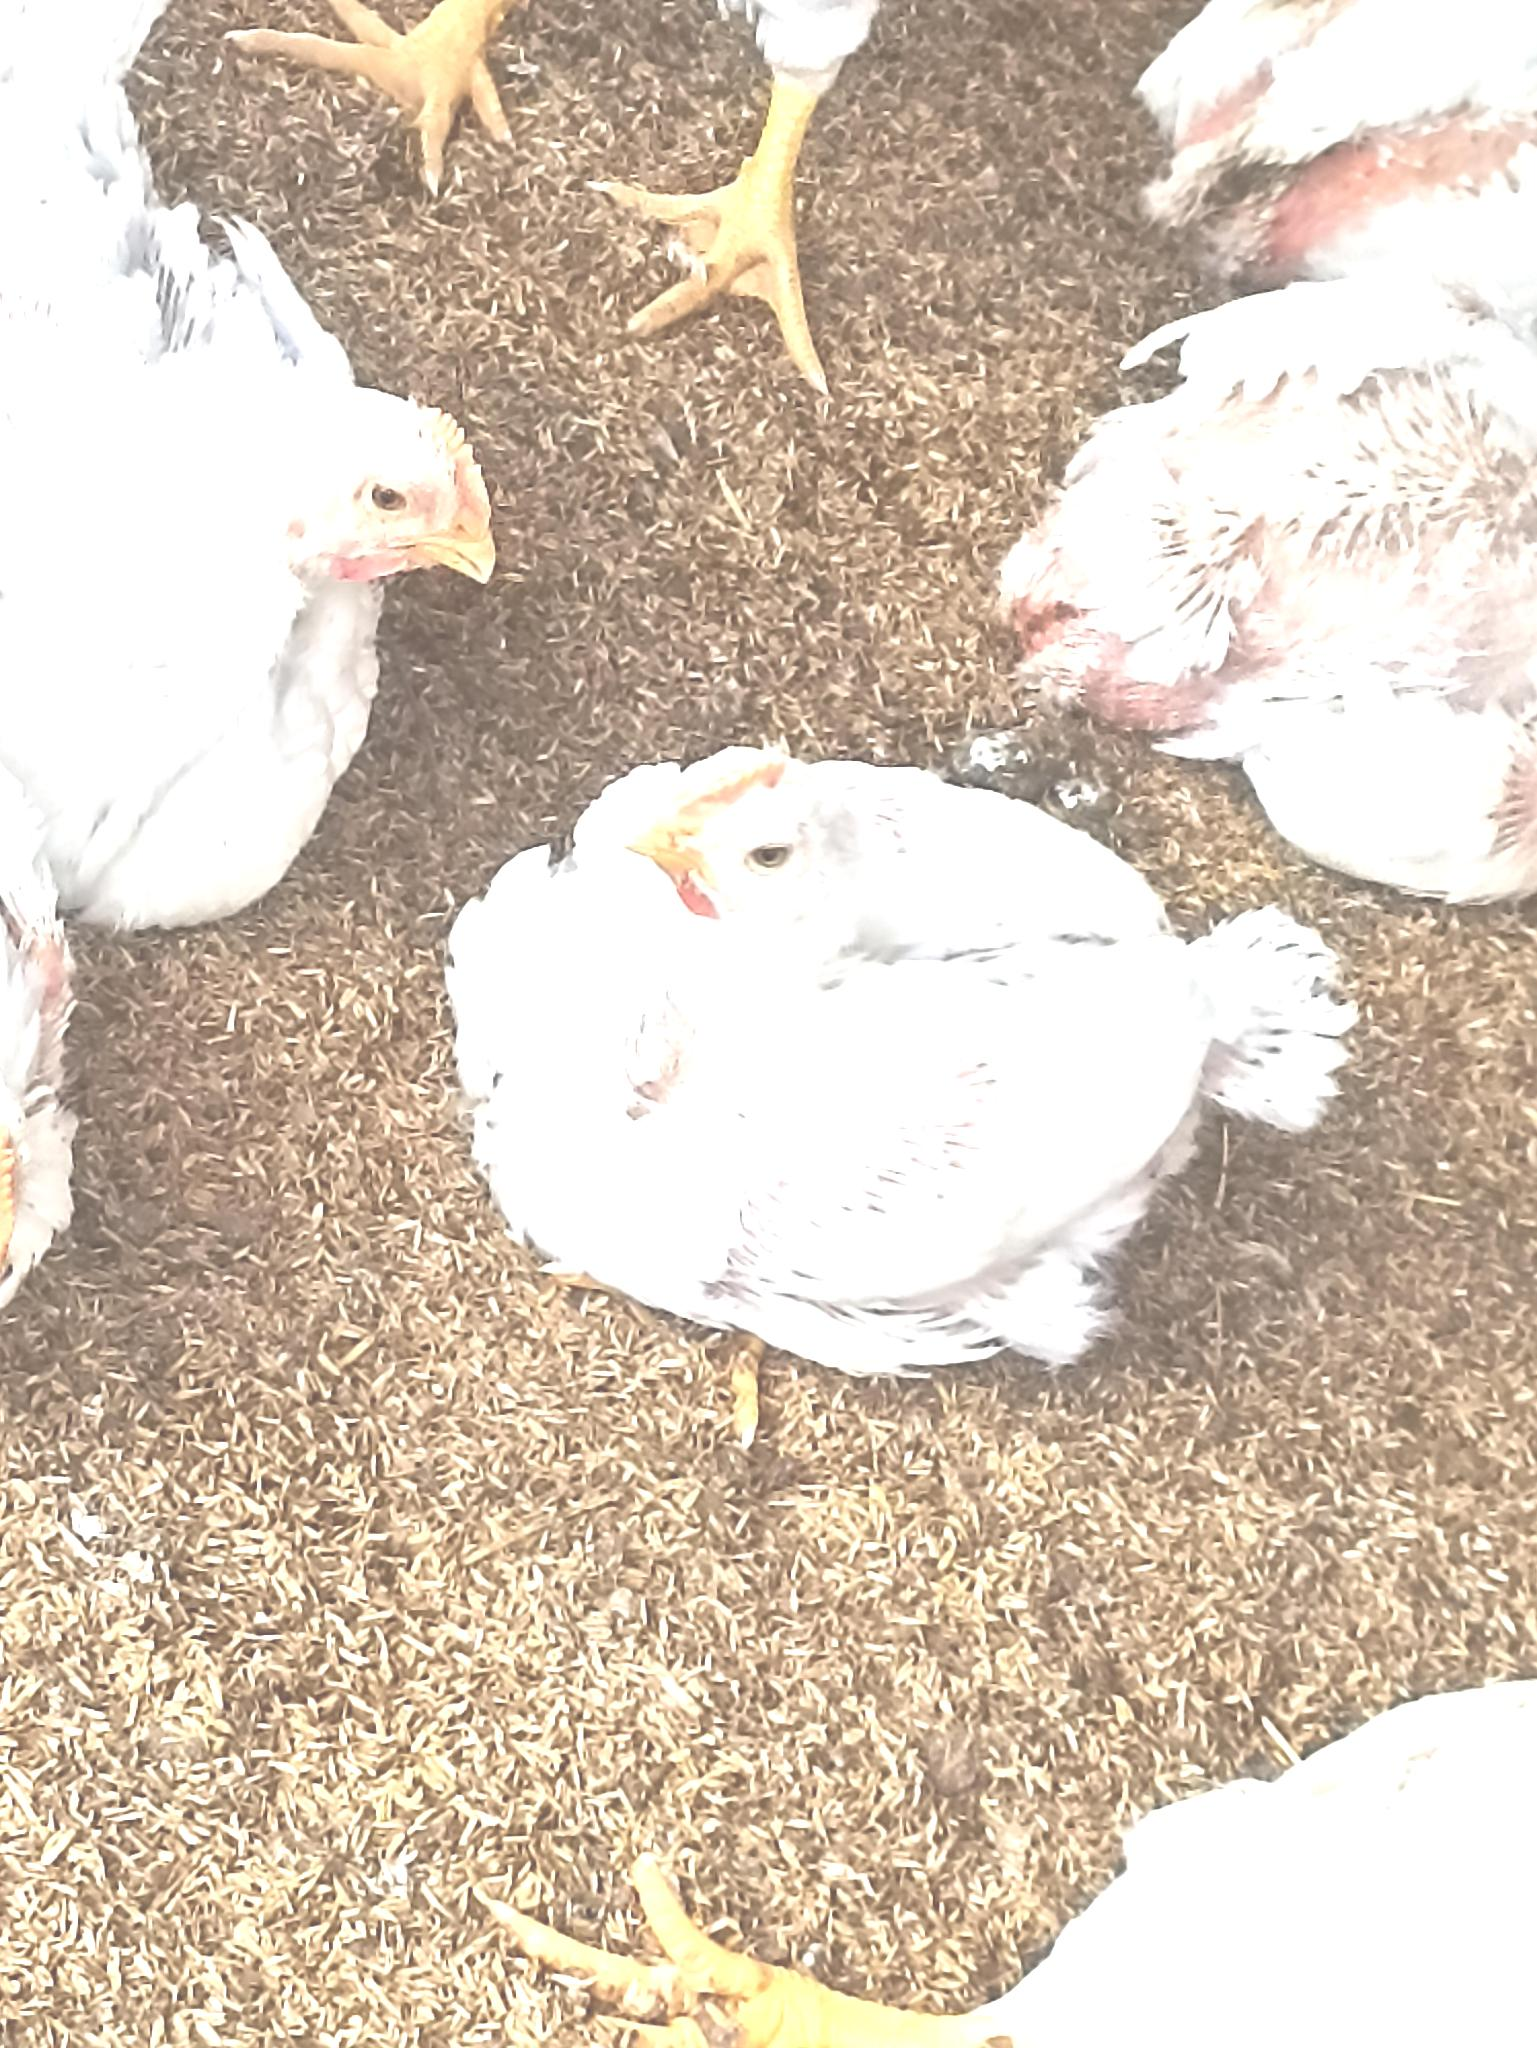Pollos: (447, 757, 1351, 1369), (2, 232, 491, 910), (1003, 276, 1537, 844)
